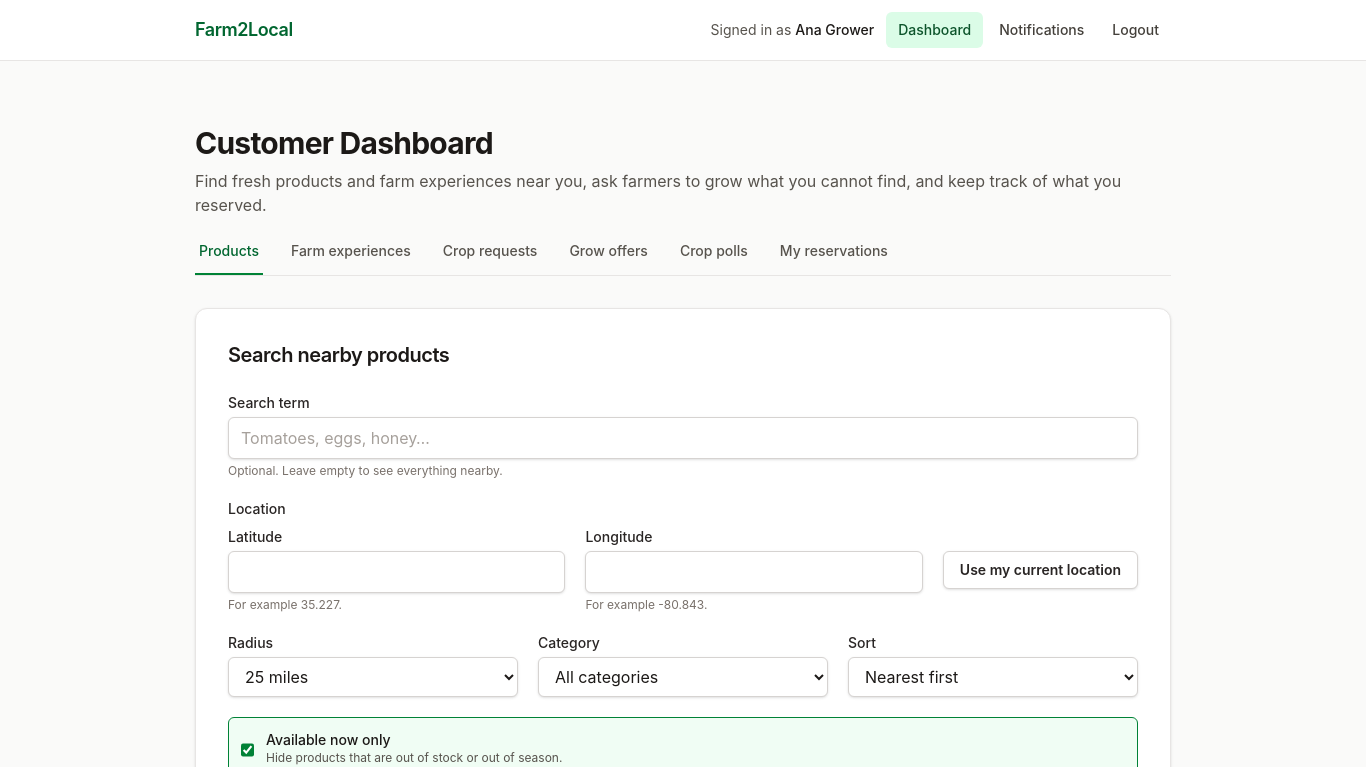
Test: search form › searches with the defaults when only a location is given
The image size is (1366, 767).
Type "35.2271" into the field labelled "Latitude". click: {"x": 397, "y": 572}
box: 228,551 -> 565,593
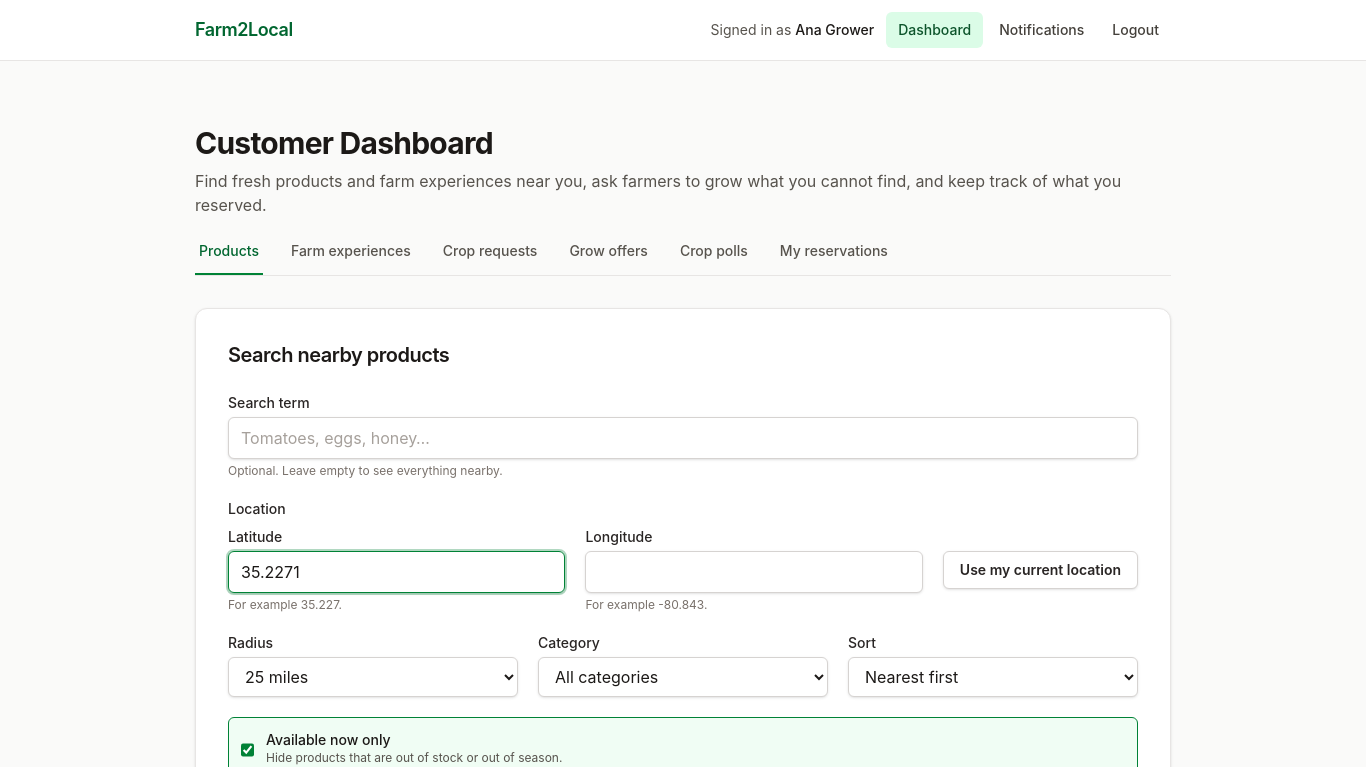
Type "-80.8431" into the field labelled "Longitude". click: {"x": 754, "y": 572}
box: 585,551 -> 923,593
(page scrolled)
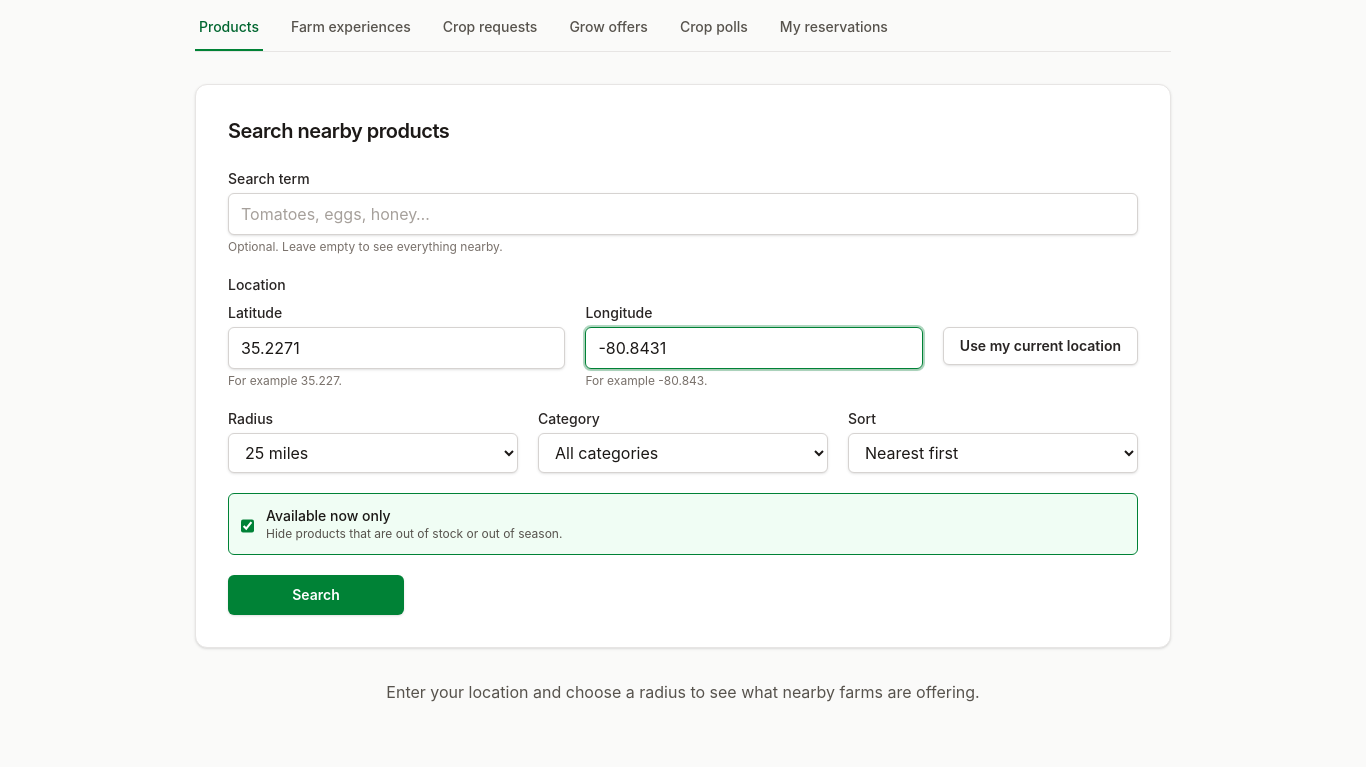
Click the button "Search". click: {"x": 316, "y": 595}
box: 228,575 -> 404,615
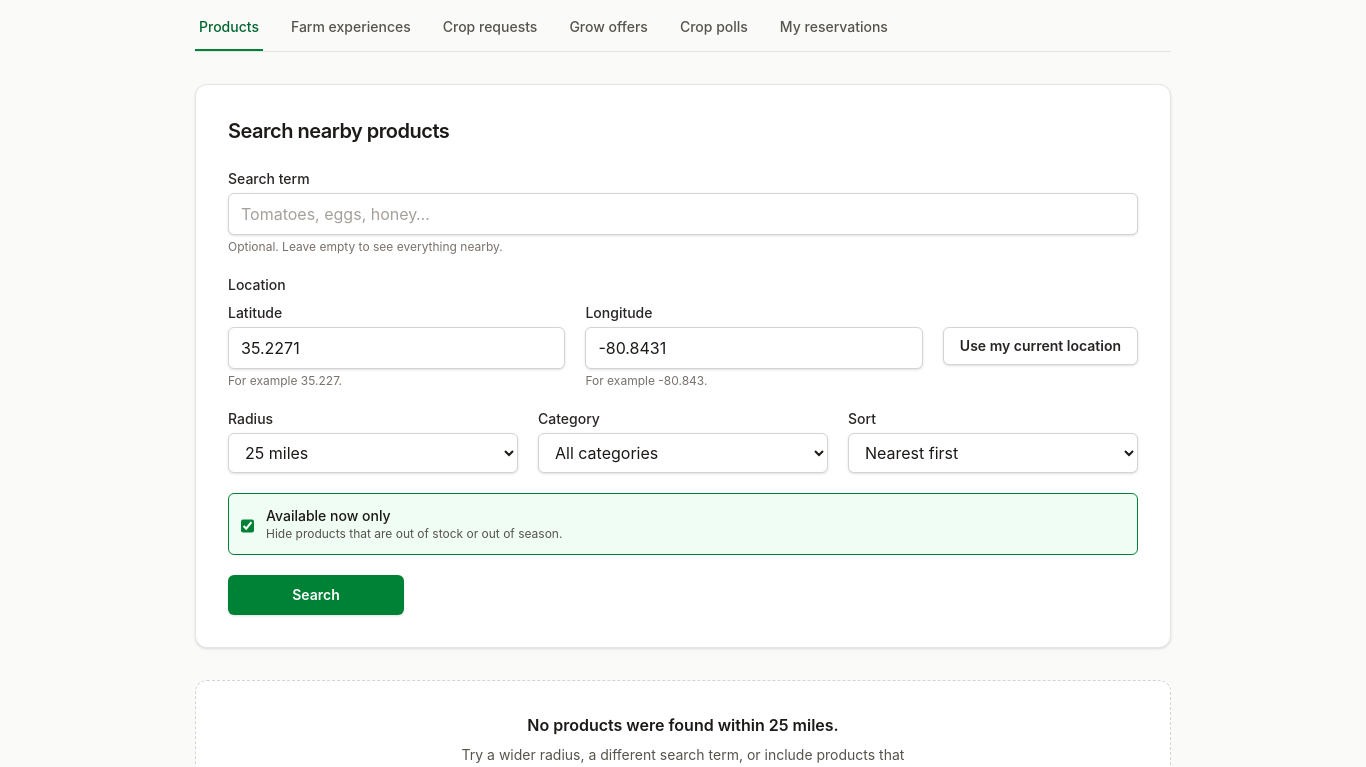
Now the text "No products were found within 25 miles." is shown, box 527,715 -> 839,735
